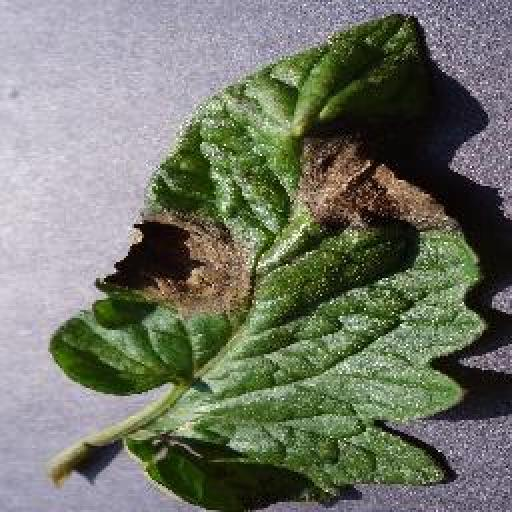Late Blight: (48, 10, 486, 512)
